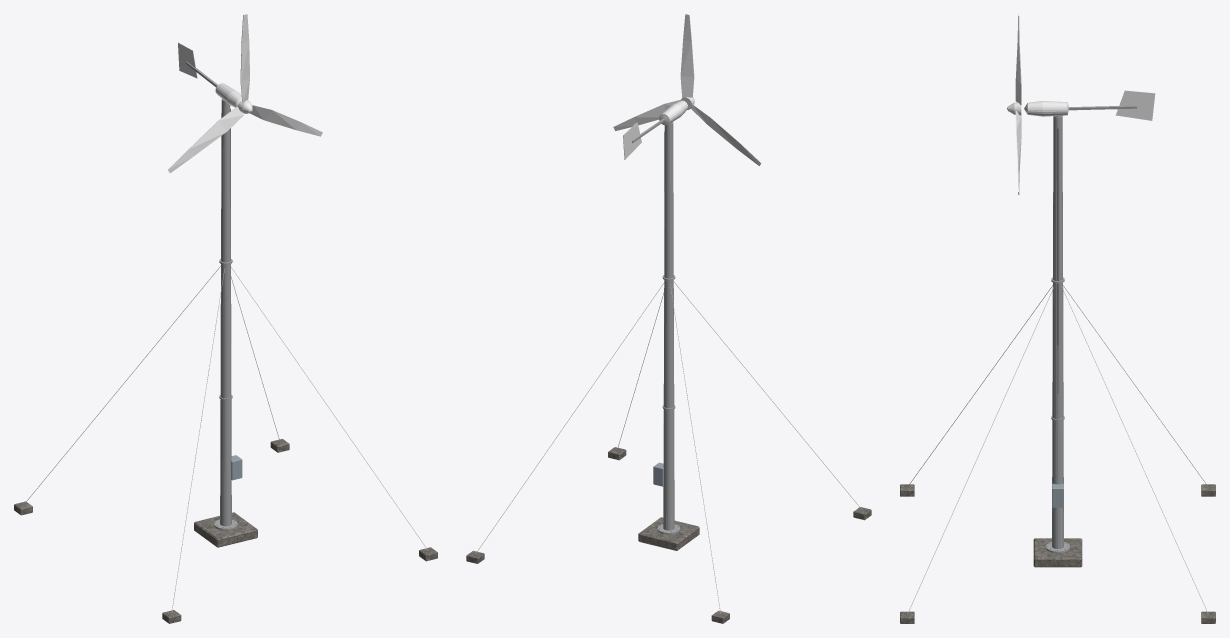
The model's file is turbina_eolica.glb.
3 views of the same model, side by side, from view 1: azimuth 30°, elevation 25°; view 2: azimuth 150°, elevation 25°; view 3: azimuth 270°, elevation 25° (orthographic). The views are drawn at different scales.
Parts seen in each view (by area): view 1: turbina_eolica_galvanizado, turbina_eolica_rotor_pa_turbina, turbina_eolica_concreto, turbina_eolica_aco, turbina_eolica_cabeca_pa_turbina; view 2: turbina_eolica_galvanizado, turbina_eolica_rotor_pa_turbina, turbina_eolica_concreto, turbina_eolica_aco, turbina_eolica_cabeca_pa_turbina; view 3: turbina_eolica_galvanizado, turbina_eolica_concreto, turbina_eolica_cabeca_pa_turbina, turbina_eolica_aco, turbina_eolica_rotor_pa_turbina, turbina_eolica_plastico_preto.
Part boxes in pixels (bbox=[...]): turbina_eolica_galvanizado: bbox=[214, 99, 237, 530]; turbina_eolica_rotor_pa_turbina: bbox=[168, 14, 322, 173]; turbina_eolica_concreto: bbox=[14, 439, 437, 623]; turbina_eolica_aco: bbox=[23, 266, 428, 613]; turbina_eolica_cabeca_pa_turbina: bbox=[178, 42, 241, 107]; turbina_eolica_galvanizado: bbox=[657, 122, 680, 534]; turbina_eolica_rotor_pa_turbina: bbox=[613, 14, 761, 165]; turbina_eolica_concreto: bbox=[466, 447, 871, 623]; turbina_eolica_aco: bbox=[475, 281, 862, 613]; turbina_eolica_cabeca_pa_turbina: bbox=[623, 100, 688, 159]; turbina_eolica_galvanizado: bbox=[1045, 115, 1070, 553]; turbina_eolica_concreto: bbox=[900, 484, 1215, 623]; turbina_eolica_cabeca_pa_turbina: bbox=[1024, 90, 1155, 120]; turbina_eolica_aco: bbox=[907, 285, 1208, 614]; turbina_eolica_rotor_pa_turbina: bbox=[1007, 14, 1021, 194]; turbina_eolica_plastico_preto: bbox=[1057, 128, 1058, 393].
Size of the model in its own units: 5.19 by 9.84 by 5.19.
6 materials, 1 textured.
